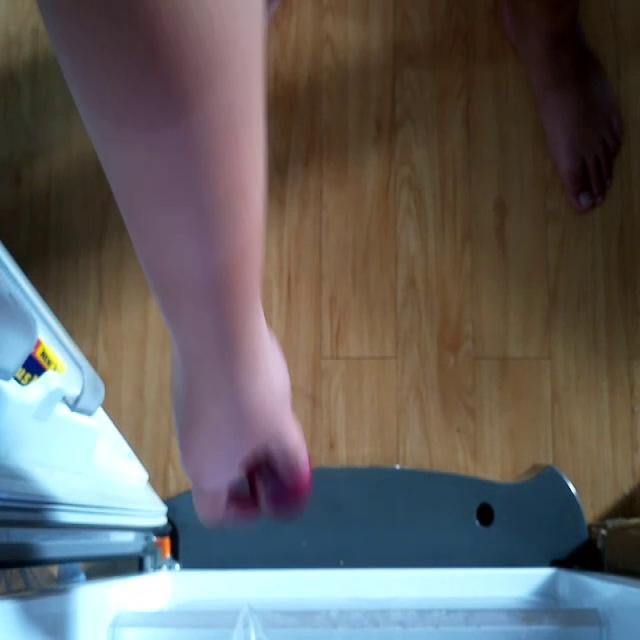onion: (246, 444, 313, 518)
